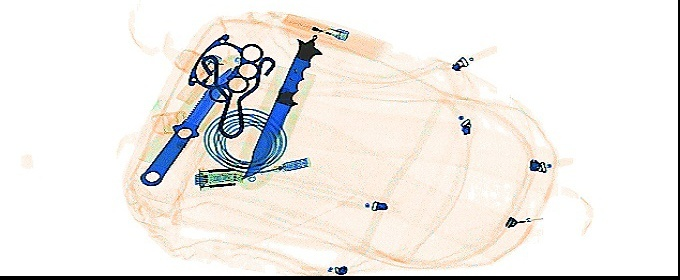knife: (133, 63, 240, 187), (237, 29, 324, 181)
lighter: (173, 52, 227, 106), (276, 10, 350, 45)
slingshot: (200, 51, 277, 141)
